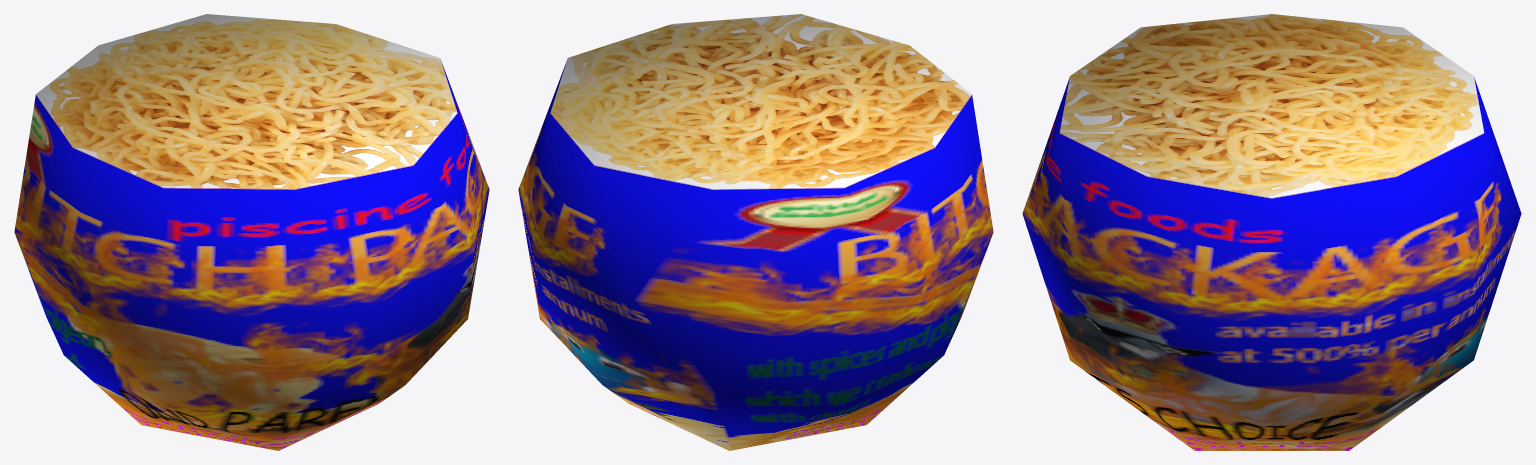
File: Bedroom_nuclearbomb.glb
3 renders of one model, left to right at view 1: azimuth 30°, elevation 25°; view 2: azimuth 150°, elevation 25°; view 3: azimuth 270°, elevation 25°, orthographic. The views are drawn at different scales.
Visible parts, largest first — view 1: Icosphere.001; view 2: Icosphere.001; view 3: Icosphere.001.
Boxes of the visible parts, x1,y1,x2,y2 form: Icosphere.001: (14,14,489,450); Icosphere.001: (518,14,993,450); Icosphere.001: (1022,14,1521,450).
Bounding box in the file's own units: 0.5069 × 0.3961 × 0.533.
Materials: 2 (2 with a texture image).
